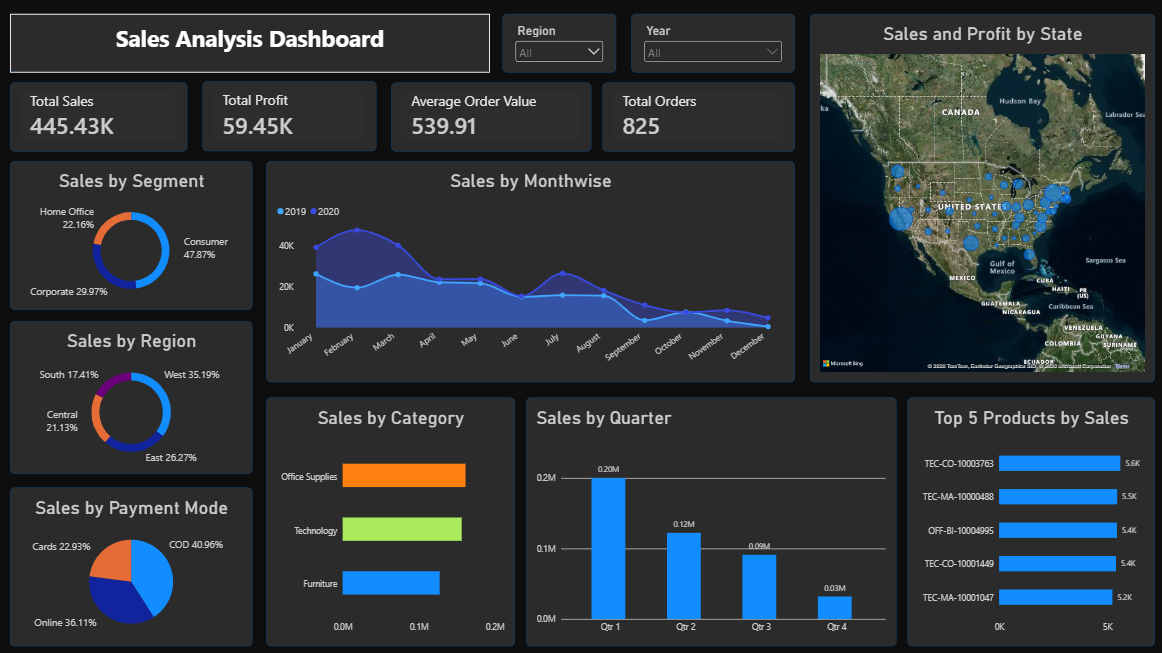

The dashboard page shown, as its layout file describes it:
{"tool":"powerbi","page":{"name":"Page 1","canvas":[1920,1080],"ordinal":0},"visuals":[{"type":"clusteredBarChart","title":"Sales by Category","fields":{"Category":["SuperStore_Sales_Dataset.Category"],"Y":["Sum(SuperStore_Sales_Dataset.Sales)"]},"box":[438.4,654.5,409.6,409.6],"z":0},{"type":"clusteredColumnChart","title":"Sales by Quarter","fields":{"Y":["Sum(SuperStore_Sales_Dataset.Sales)"],"Category":["SuperStore_Sales_Dataset.Order Date.Variation.Date Hierarchy.Quarter"]},"box":[866.6,654.5,609.3,409.6],"z":1000},{"type":"areaChart","title":"Sales by Monthwise","fields":{"Category":["SuperStore_Sales_Dataset.Order Date.Variation.Date Hierarchy.Month"],"Y":["Sum(SuperStore_Sales_Dataset.Sales)"],"Series":["SuperStore_Sales_Dataset.Order Date.Variation.Date Hierarchy.Year"]},"box":[438.4,265.5,870.7,364.3],"z":2000},{"type":"barChart","title":"Top 5 Products by Sales","fields":{"Y":["Sum(SuperStore_Sales_Dataset.Sales)"],"Category":["SuperStore_Sales_Dataset.Product ID"]},"box":[1494.3,654.5,407.5,409.6],"z":3000},{"type":"map","title":"Sales and Profit by State","fields":{"Category":["SuperStore_Sales_Dataset.State"],"Size":["Sum(SuperStore_Sales_Dataset.Sales)"]},"box":[1333.8,22.6,568.1,607.2],"z":4000},{"type":"donutChart","title":"Sales by Segment","fields":{"Category":["SuperStore_Sales_Dataset.Segment"],"Y":["Sum(SuperStore_Sales_Dataset.Sales)"]},"box":[16.5,265.5,399.3,244.9],"z":5000},{"type":"donutChart","title":"Sales by Region","fields":{"Y":["Sum(SuperStore_Sales_Dataset.Sales)"],"Category":["SuperStore_Sales_Dataset.Region"]},"box":[16.5,529,399.3,251.1],"z":6000},{"type":"pieChart","title":"Sales by Payment Mode","fields":{"Category":["SuperStore_Sales_Dataset.Payment Mode"],"Y":["Sum(SuperStore_Sales_Dataset.Sales)"]},"box":[16.5,802.7,399.3,261.4],"z":7000},{"type":"textbox","box":[16.5,22.6,790.4,96.7],"z":8000},{"type":"slicer","fields":{"Values":["SuperStore_Sales_Dataset.Region"]},"box":[827.4,22.6,187.3,96.7],"z":9000},{"type":"cardVisual","fields":{"Data":["SuperStore_Sales_Dataset.Total Sales"]},"box":[16.5,135.8,292.3,113.2],"z":10000},{"type":"cardVisual","fields":{"Data":["SuperStore_Sales_Dataset.Total Profit"]},"box":[333.4,133.8,286.1,115.3],"z":11000},{"type":"cardVisual","fields":{"Data":["SuperStore_Sales_Dataset.Average Order Value"]},"box":[644.3,135.8,329.3,113.2],"z":12000},{"type":"slicer","fields":{"Values":["SuperStore_Sales_Dataset.Order Date.Variation.Date Hierarchy.Year"]},"box":[1039.5,22.6,269.6,96.7],"z":13000},{"type":"cardVisual","fields":{"Data":["SuperStore_Sales_Dataset.Total Orders"]},"box":[992.1,135.8,317,113.2],"z":14000}]}

Visuals, with their boxes in screenshot pixels (x1, y1, x2, y2), scaled from the page's 1920x1080 canvas onto the 1162x653 screenshot:
"Sales by Category" clusteredBarChart: locate(265, 396, 513, 643)
"Sales by Quarter" clusteredColumnChart: locate(524, 396, 893, 643)
"Sales by Monthwise" areaChart: locate(265, 161, 792, 381)
"Top 5 Products by Sales" barChart: locate(904, 396, 1151, 643)
"Sales and Profit by State" map: locate(807, 14, 1151, 381)
"Sales by Segment" donutChart: locate(10, 161, 252, 309)
"Sales by Region" donutChart: locate(10, 320, 252, 472)
"Sales by Payment Mode" pieChart: locate(10, 485, 252, 643)
textbox: locate(10, 14, 488, 72)
slicer - SuperStore_Sales_Dataset.Region: locate(501, 14, 614, 72)
cardVisual - SuperStore_Sales_Dataset.Total Sales: locate(10, 82, 187, 151)
cardVisual - SuperStore_Sales_Dataset.Total Profit: locate(202, 81, 375, 151)
cardVisual - SuperStore_Sales_Dataset.Average Order Value: locate(390, 82, 589, 151)
slicer - SuperStore_Sales_Dataset.Order Date.Variation.Date Hierarchy.Year: locate(629, 14, 792, 72)
cardVisual - SuperStore_Sales_Dataset.Total Orders: locate(600, 82, 792, 151)
